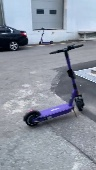beam: (21, 44, 87, 127), (37, 26, 55, 45)
